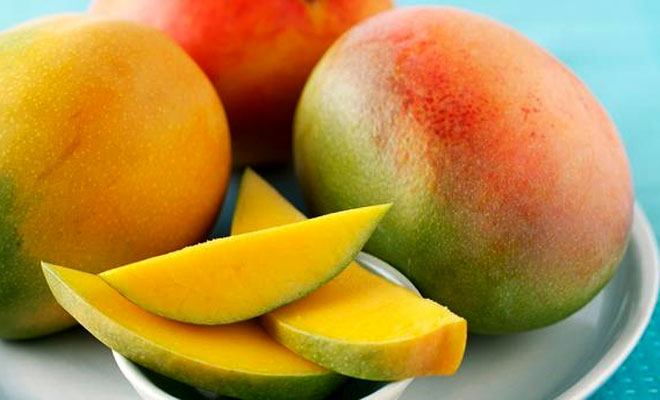mango: (288, 10, 638, 231), (7, 10, 237, 237), (242, 160, 474, 374), (84, 198, 399, 326)
